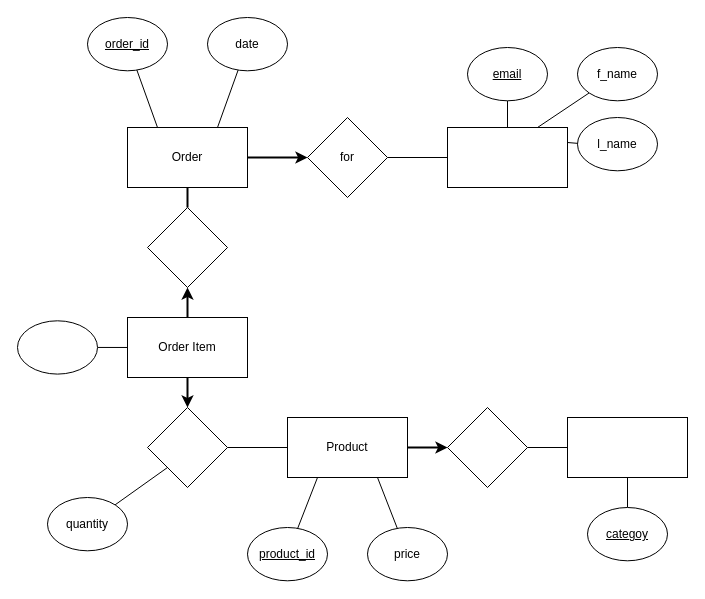
Some shapes in this 705 by 599 pixel diagram are drawn without their labels. Here are the shapes that lost their labels. From the top down, the box of each, then its label:
(446, 126, 568, 188): User
(146, 206, 228, 288): has
(16, 320, 98, 374): o_item_id
(146, 406, 228, 488): purchase
(446, 406, 528, 488): in
(566, 416, 688, 478): Product Category
